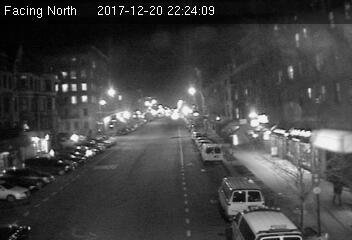police: (227, 207, 303, 240), (216, 173, 266, 220)
truck: (200, 143, 222, 163)
